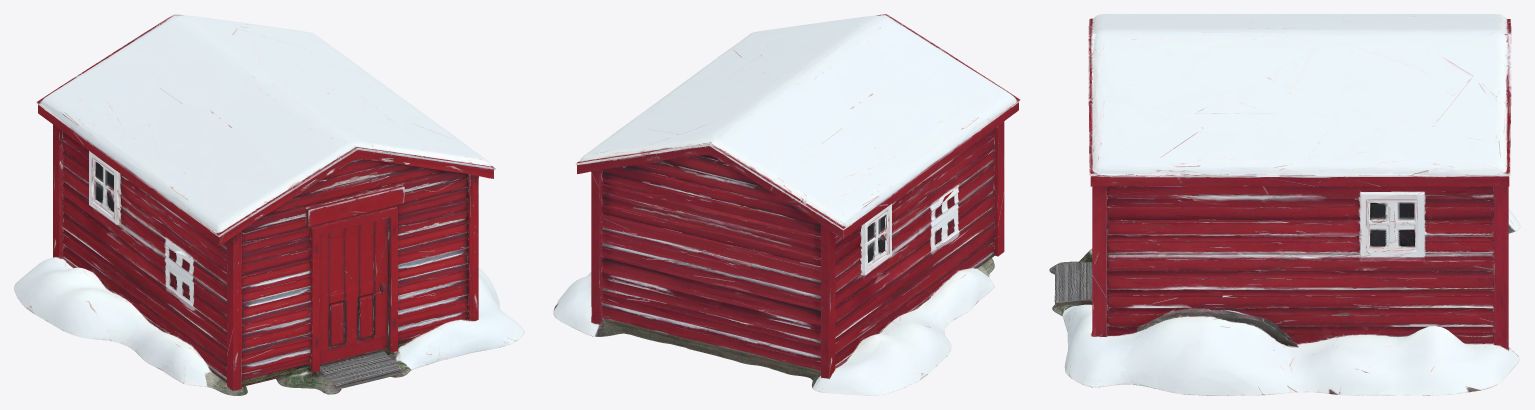
Rendered from patrol_hut.glb.
3 views of the same model, side by side, from view 1: azimuth 30°, elevation 25°; view 2: azimuth 150°, elevation 25°; view 3: azimuth 270°, elevation 25° (orthographic). The views are drawn at different scales.
Size of the model in its own units: 1.9 by 1.12 by 1.83.
1 material, 1 textured.
